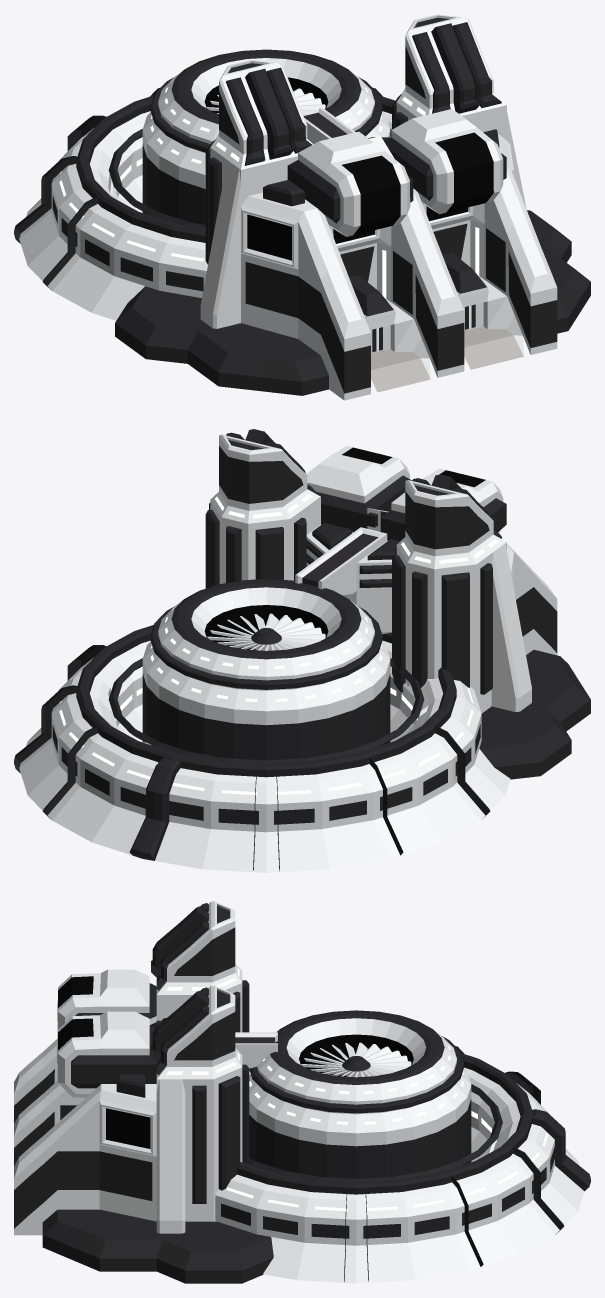
File: geotermal.glb
The picture shows the model from 3 angles, top to bottom: view 1: azimuth 30°, elevation 25°; view 2: azimuth 150°, elevation 25°; view 3: azimuth 270°, elevation 25°; orthographic projection. The views are drawn at different scales.
Visible parts, largest first — view 1: GeothermalPowerStationUnder_UpperBody, GeothermalPowerStationUnder_Foundation, GeothermalPowerStationUnder_Body, GeothermalPowerStationUnder_FoundationParts, GeothermalPowerStationUnder_FoundationFence, GeothermalPowerStationUnder_Door, GeothermalPowerStationUnder_Propeller; view 2: GeothermalPowerStationUnder_Foundation, GeothermalPowerStationUnder_Body, GeothermalPowerStationUnder_UpperBody, GeothermalPowerStationUnder_FoundationParts, GeothermalPowerStationUnder_FoundationFence, GeothermalPowerStationUnder_Propeller; view 3: GeothermalPowerStationUnder_Foundation, GeothermalPowerStationUnder_UpperBody, GeothermalPowerStationUnder_Body, GeothermalPowerStationUnder_FoundationParts, GeothermalPowerStationUnder_Propeller, GeothermalPowerStationUnder_FoundationFence.
Part boxes in pixels (x1,y1,x2,y2): GeothermalPowerStationUnder_UpperBody: (241, 107, 557, 400); GeothermalPowerStationUnder_Foundation: (19, 49, 590, 395); GeothermalPowerStationUnder_Body: (200, 14, 530, 399); GeothermalPowerStationUnder_FoundationParts: (14, 88, 382, 290); GeothermalPowerStationUnder_FoundationFence: (108, 128, 391, 228); GeothermalPowerStationUnder_Door: (370, 302, 483, 353); GeothermalPowerStationUnder_Propeller: (207, 88, 325, 115); GeothermalPowerStationUnder_Foundation: (19, 579, 590, 872); GeothermalPowerStationUnder_Body: (205, 429, 550, 713); GeothermalPowerStationUnder_UpperBody: (295, 446, 557, 655); GeothermalPowerStationUnder_FoundationParts: (14, 645, 490, 871); GeothermalPowerStationUnder_FoundationFence: (108, 658, 428, 763); GeothermalPowerStationUnder_Propeller: (207, 613, 325, 650); GeothermalPowerStationUnder_Foundation: (42, 1010, 584, 1283); GeothermalPowerStationUnder_UpperBody: (14, 969, 277, 1234); GeothermalPowerStationUnder_Body: (14, 901, 249, 1235); GeothermalPowerStationUnder_FoundationParts: (344, 1046, 590, 1282); GeothermalPowerStationUnder_Propeller: (301, 1042, 411, 1077); GeothermalPowerStationUnder_FoundationFence: (249, 1084, 502, 1181).
Size of the model in its own units: 3288 by 1827 by 4044.
Materials: 1 (1 with a texture image).
